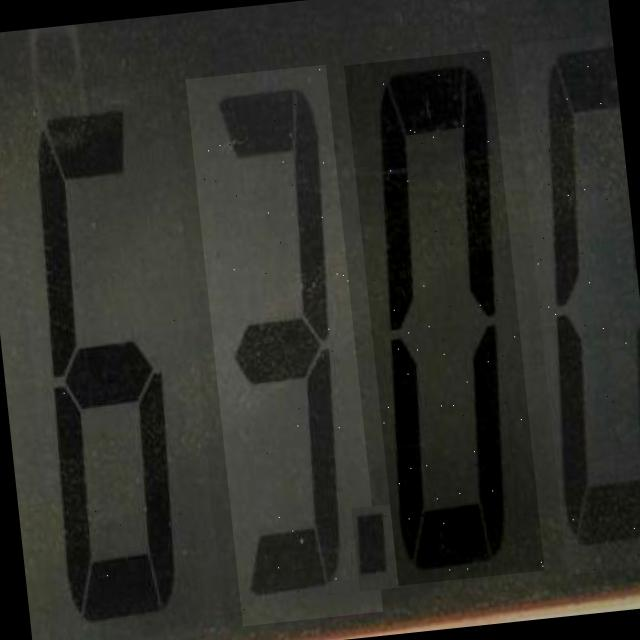.: (351, 504, 400, 592)
0: (343, 50, 544, 585), (511, 34, 640, 575)
3: (185, 64, 383, 626)
6: (4, 78, 225, 640)
